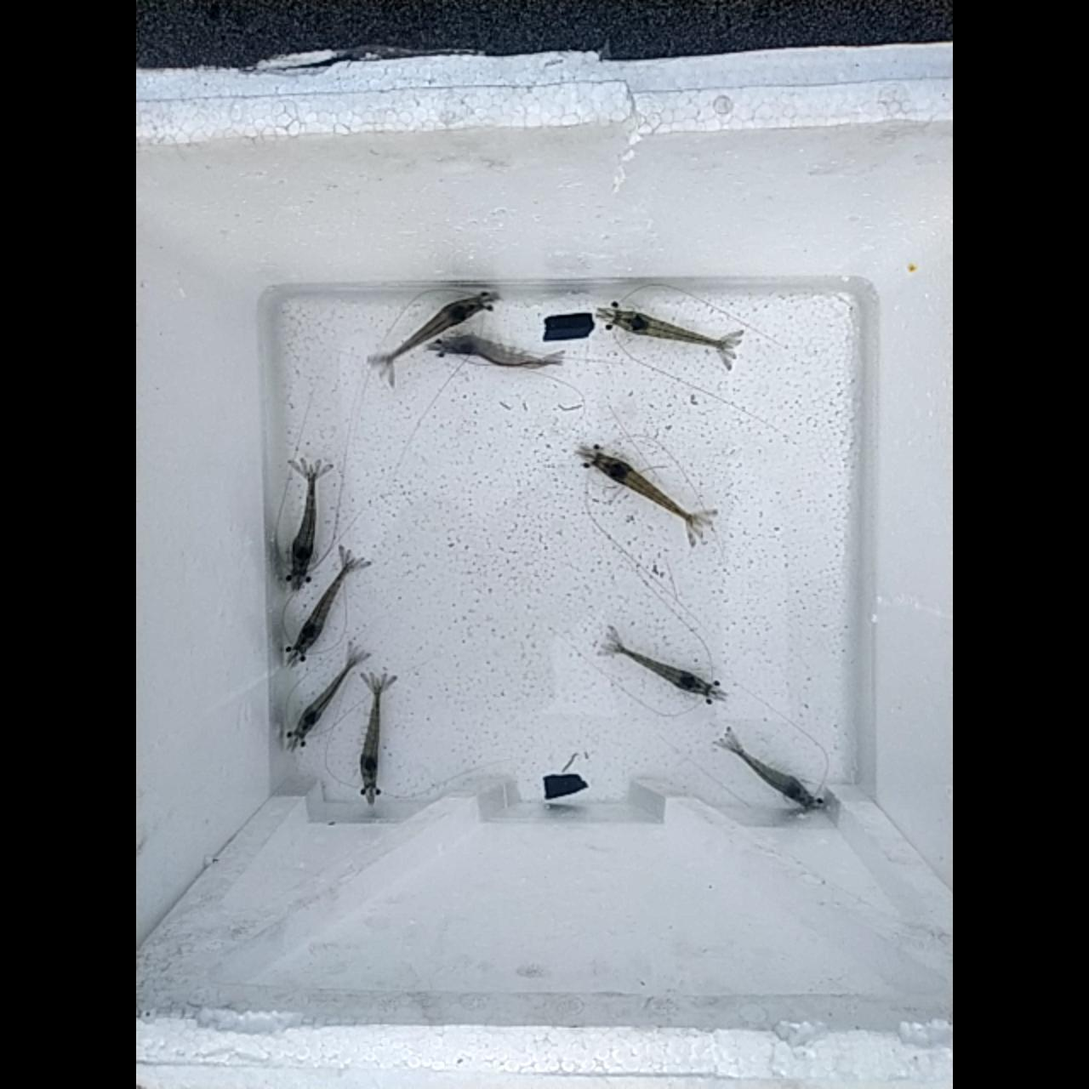box: (544, 313, 592, 339), (544, 774, 584, 798)
side_shrimp: (442, 337, 553, 366)
top_shrimp: (596, 456, 696, 522), (383, 298, 482, 362), (727, 740, 813, 805), (294, 560, 352, 650), (294, 659, 356, 733), (613, 645, 708, 693), (618, 310, 727, 347), (291, 470, 316, 568), (361, 681, 379, 784)
